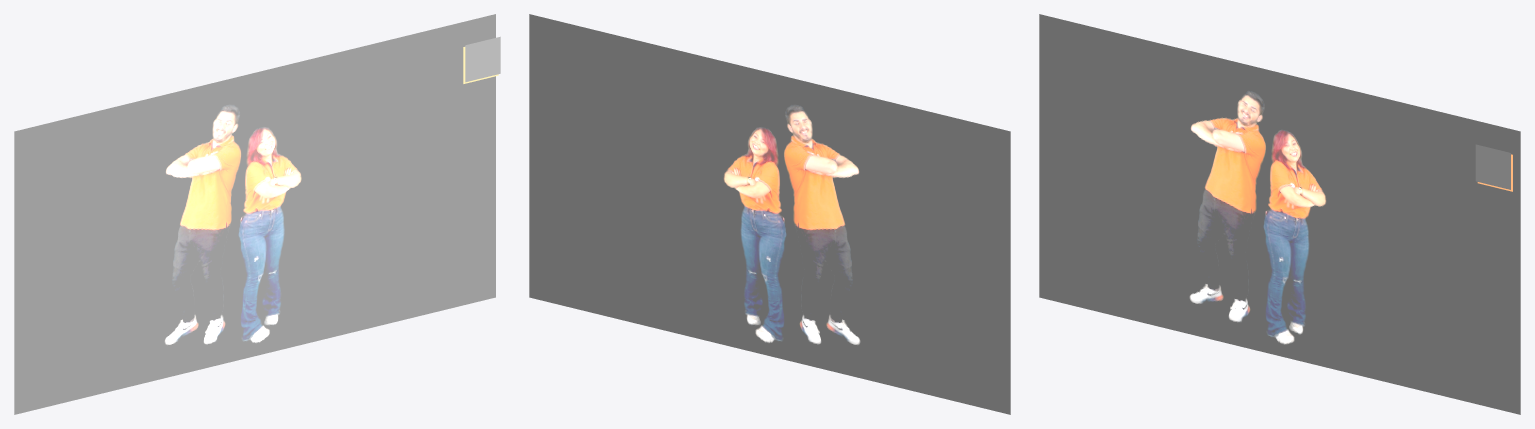
File: primer_video.glb
3 renders of one model, left to right at view 1: azimuth 30°, elevation 25°; view 2: azimuth 150°, elevation 25°; view 3: azimuth 330°, elevation 25°, orthographic.
Parts seen in each view (by area): view 1: Plano, Plano.001; view 2: Plano; view 3: Plano, Plano.001.
Part boxes in pixels (x1,y1,x2,y2): Plano: (14, 14, 495, 414); Plano.001: (465, 36, 500, 82); Plano: (529, 14, 1010, 414); Plano: (1039, 14, 1520, 414); Plano.001: (1475, 144, 1510, 189).
Bounding box in the file's own units: 27.2 × 15.3 × 0.704.
